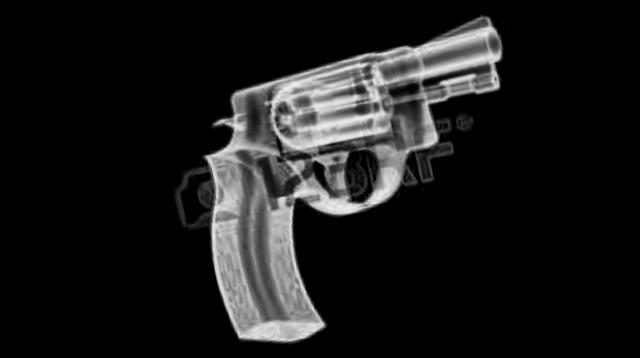pistol: (156, 6, 554, 355)
